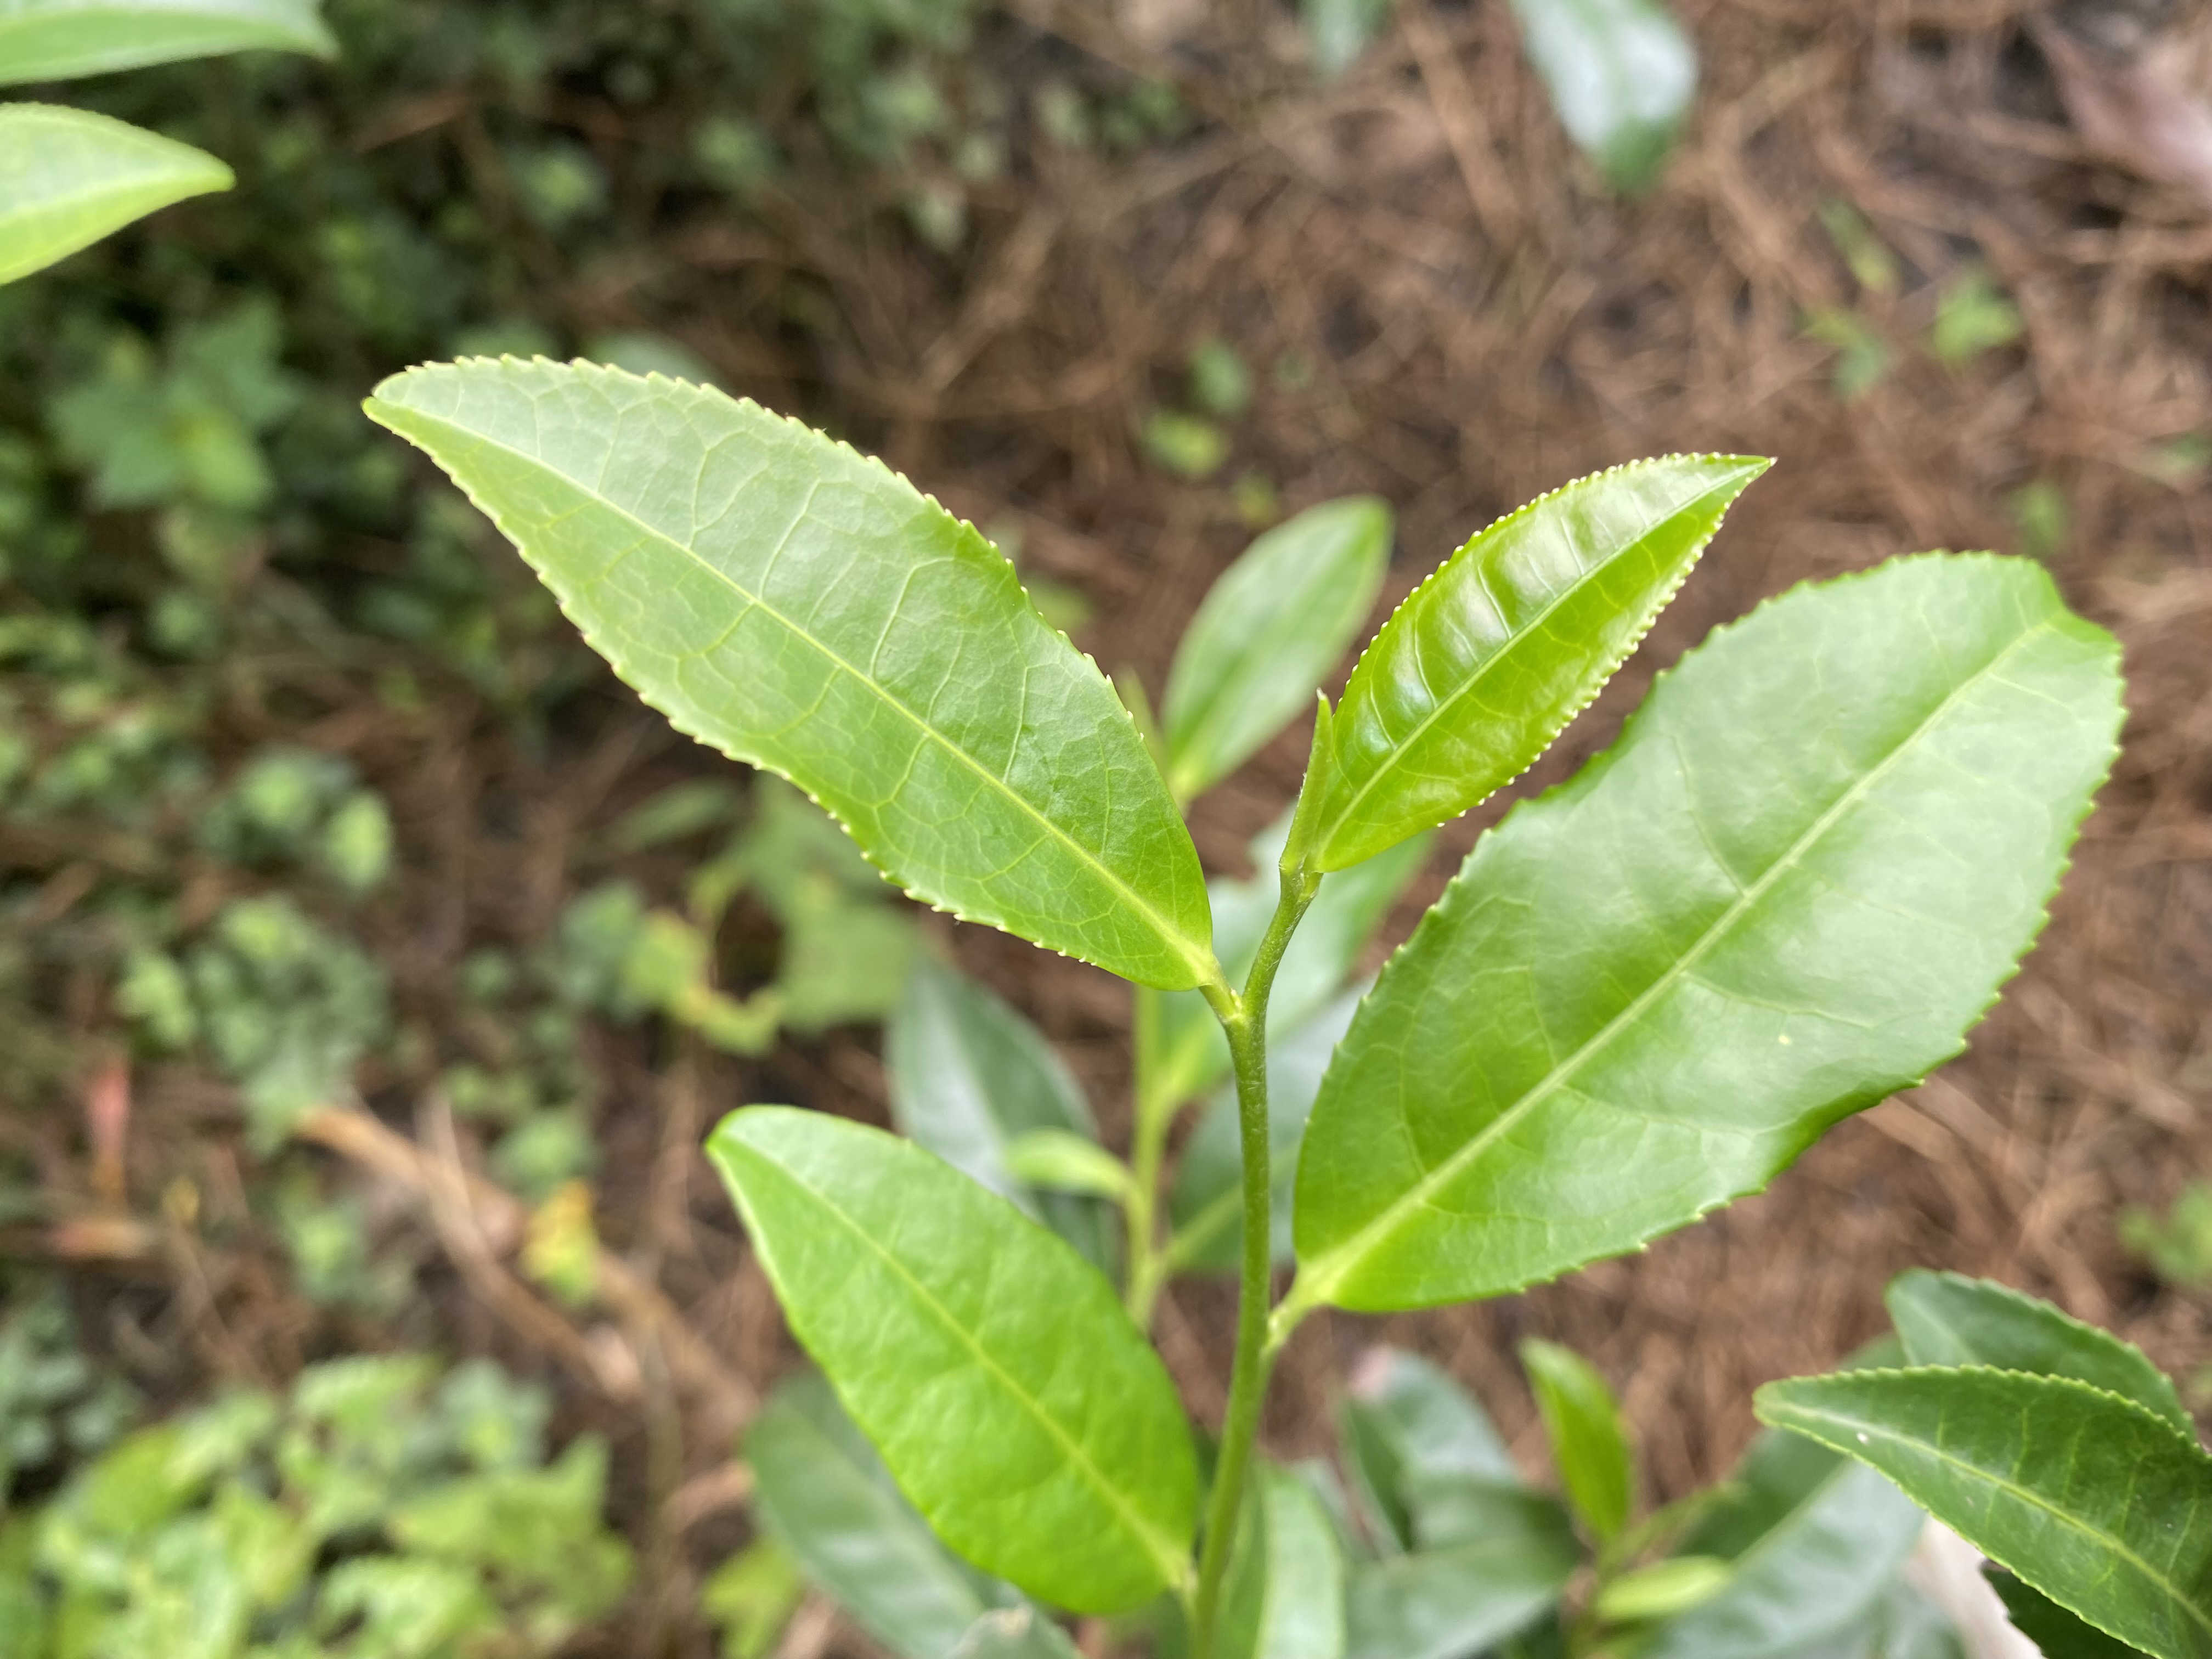healthy: (1289, 547, 2130, 1319), (361, 350, 1217, 993), (700, 1101, 1212, 1615), (1310, 450, 1778, 866)
tanju_low: (1752, 1364, 2209, 1657)
